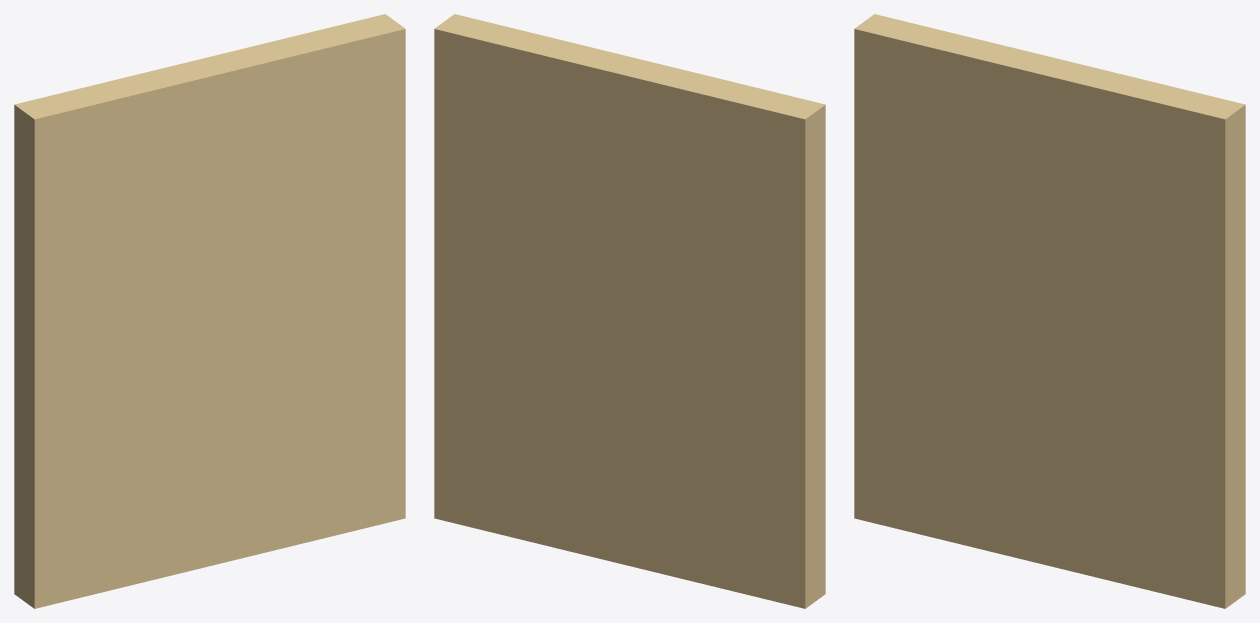
File: original-3.obj
The picture shows the model from 3 angles, left to right: view 1: azimuth 30°, elevation 25°; view 2: azimuth 150°, elevation 25°; view 3: azimuth 330°, elevation 25°; orthographic projection.
Parts seen in each view (by area): view 1: #ID19; view 2: #ID19; view 3: #ID19.
Part boxes in pixels (x1,y1,x2,y2): #ID19: (14,14,405,608); #ID19: (434,14,825,608); #ID19: (854,14,1245,608).
Bounding box in the file's own units: 1.22 × 1.54 × 0.1158.
